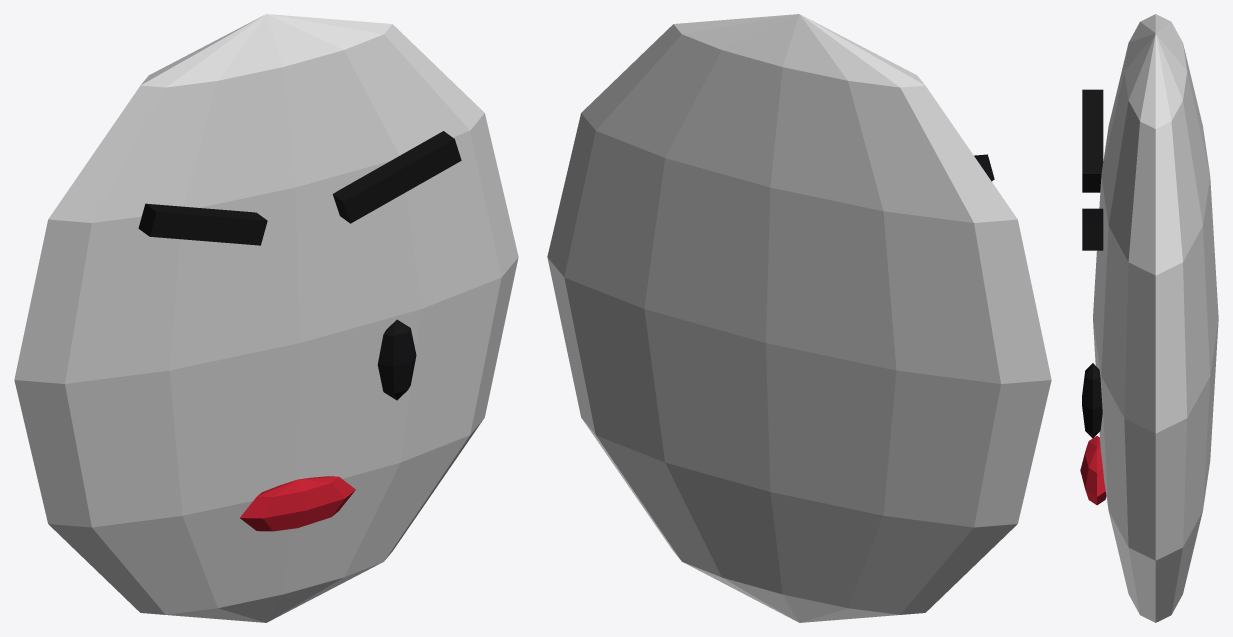
Rendered from disguise_mime_face.glb.
3 renders of one model, left to right at view 1: azimuth 30°, elevation 25°; view 2: azimuth 150°, elevation 25°; view 3: azimuth 270°, elevation 25°, orthographic. The views are drawn at different scales.
Parts seen in each view (by area): view 1: face_mime_white, brows_mime_black, lips_mime_red, tear_mime_black; view 2: face_mime_white; view 3: face_mime_white, brows_mime_black, tear_mime_black, lips_mime_red.
Boxes of the visible parts, x1,y1,x2,y2 form: face_mime_white: (14,14,518,622); brows_mime_black: (138,131,461,245); lips_mime_red: (240,476,355,531); tear_mime_black: (377,319,416,400); face_mime_white: (547,14,1051,622); face_mime_white: (1093,14,1218,622); brows_mime_black: (1082,89,1103,250); tear_mime_black: (1082,363,1102,438); lips_mime_red: (1080,436,1106,505).
Size of the model in its own units: 0.26 by 0.3 by 0.066.
